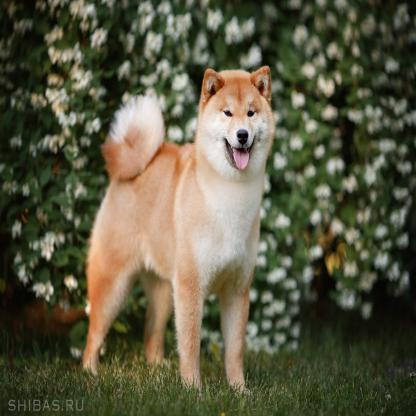Siba-ny: (80, 52, 278, 393)
